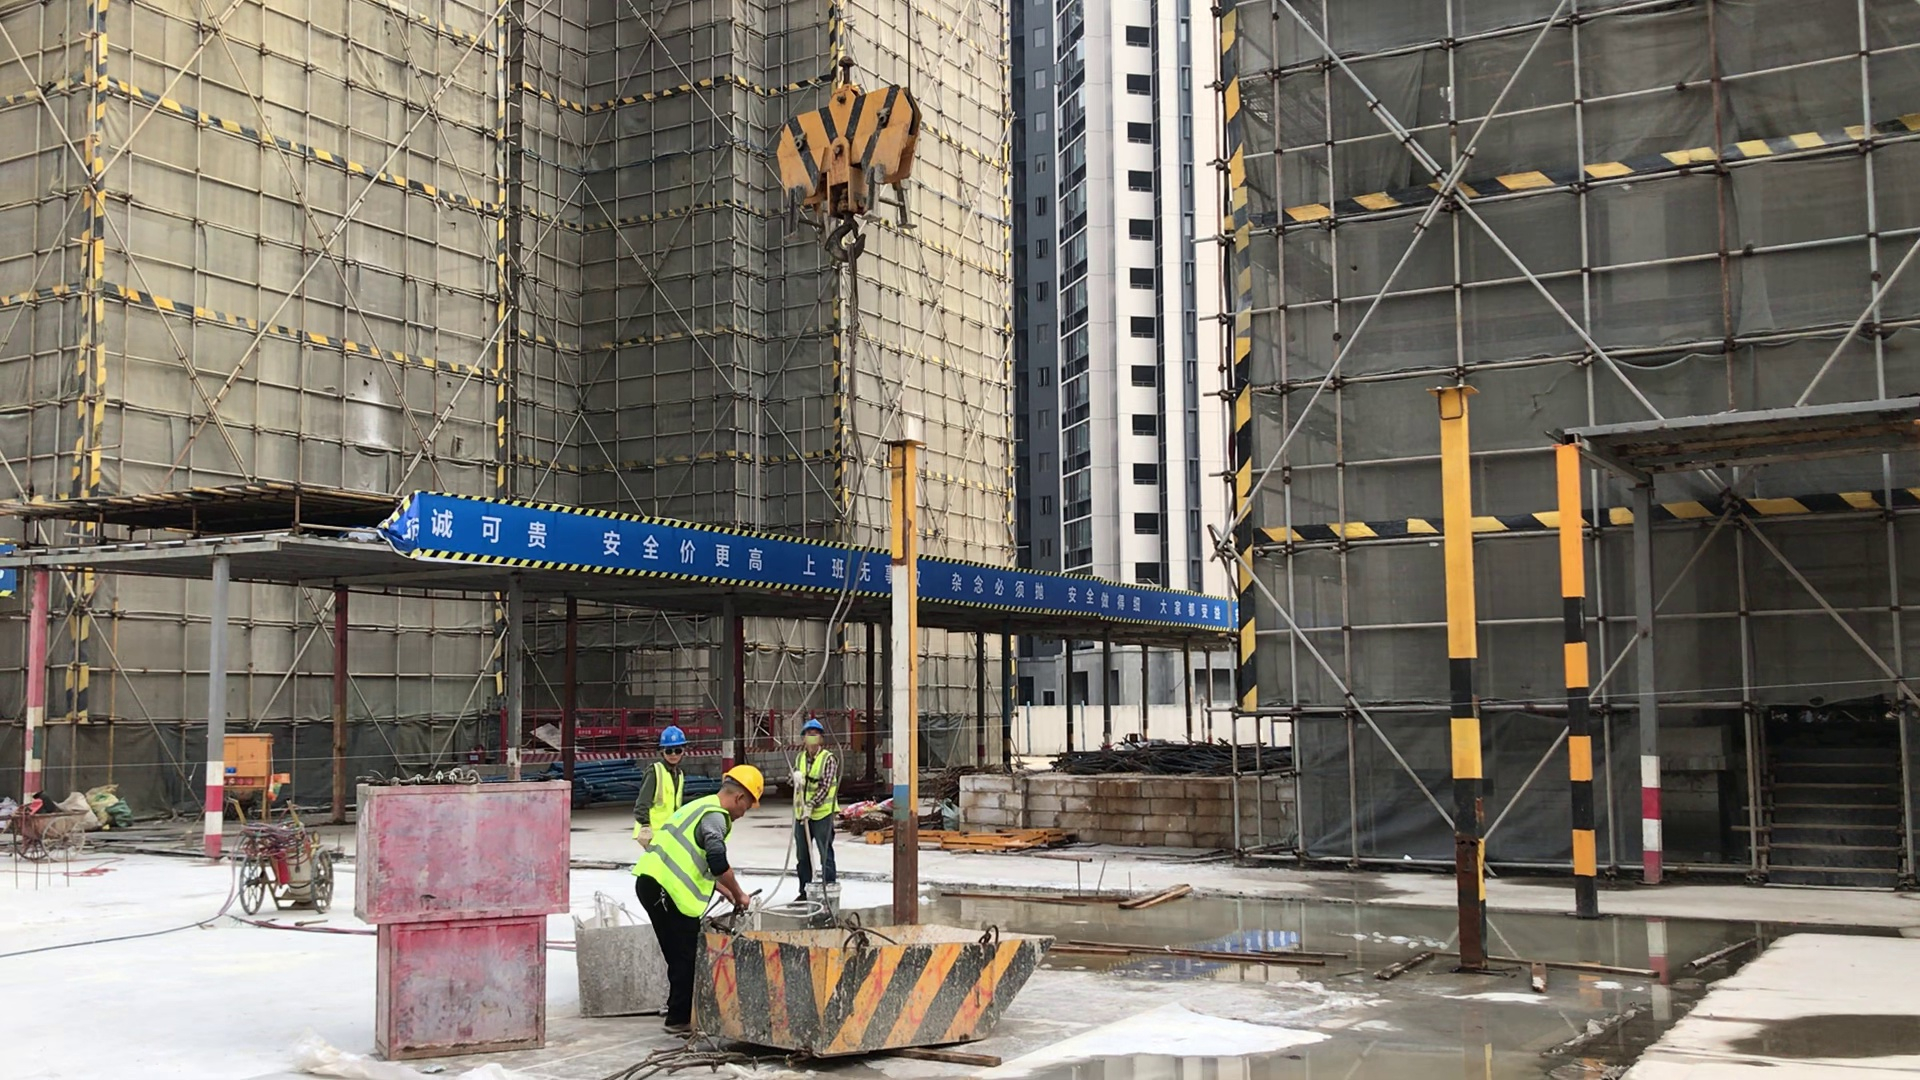ebox: (226, 728, 276, 820)
fence: (579, 707, 651, 760), (525, 706, 559, 763), (690, 709, 721, 756)
handcart: (219, 795, 341, 917), (4, 802, 95, 865)
helmet: (720, 763, 765, 809), (658, 726, 689, 748), (799, 719, 825, 739)
hook: (767, 57, 918, 269)
hopper: (699, 911, 1052, 1056), (570, 895, 662, 1017)
person: (638, 761, 766, 1041), (784, 718, 843, 907), (638, 722, 682, 853)
slogan: (418, 487, 892, 600), (919, 556, 1230, 645)
vest: (632, 793, 734, 920), (634, 763, 684, 844), (792, 749, 841, 821)
